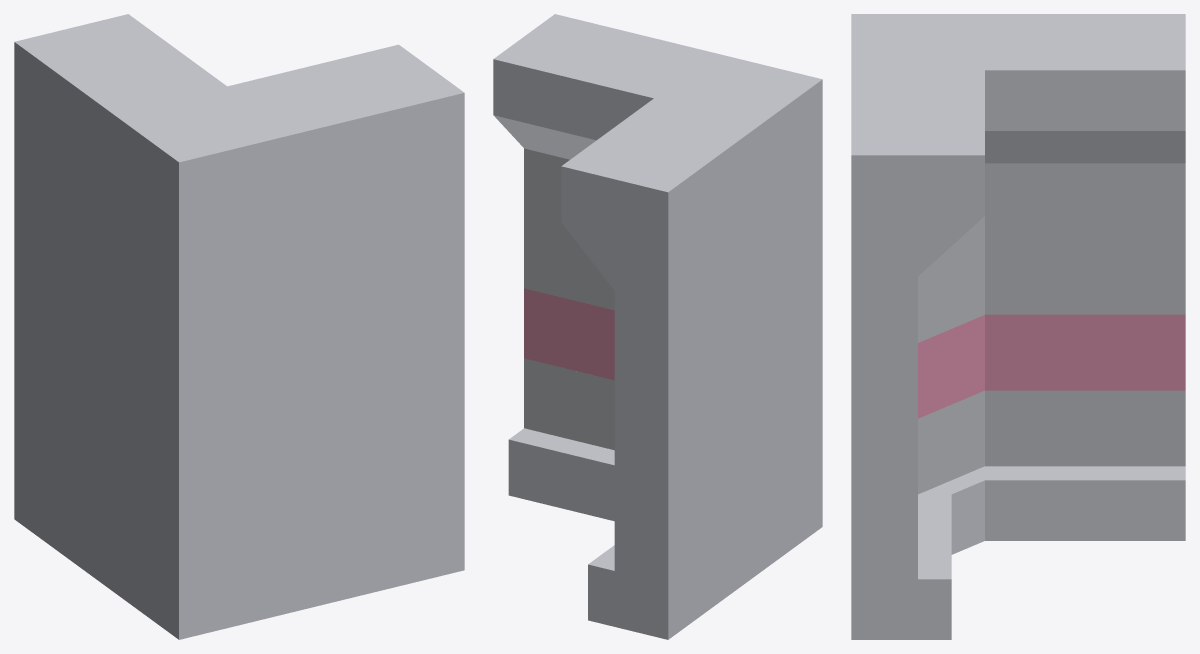
File: object_009_short.glb
3 views of the same model, side by side, from view 1: azimuth 30°, elevation 25°; view 2: azimuth 150°, elevation 25°; view 3: azimuth 270°, elevation 25° (orthographic). The views are drawn at different scales.
Visible parts, largest first — view 1: object_009_short-col; view 2: object_009_short-col; view 3: object_009_short-col.
Part boxes in pixels (bbox=[...]): object_009_short-col: bbox=[14, 14, 464, 639]; object_009_short-col: bbox=[493, 14, 822, 639]; object_009_short-col: bbox=[851, 14, 1185, 639].
Size of the model in its own units: 0.6258 by 1 by 0.6256.
